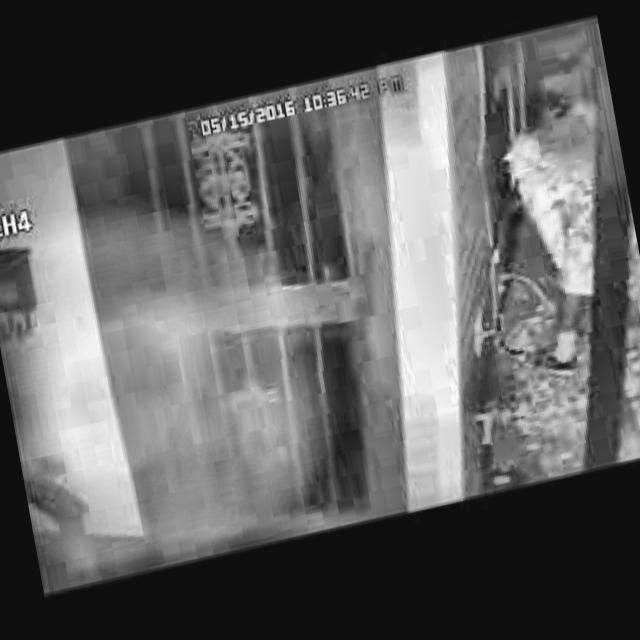burglary: (458, 115, 640, 400)
